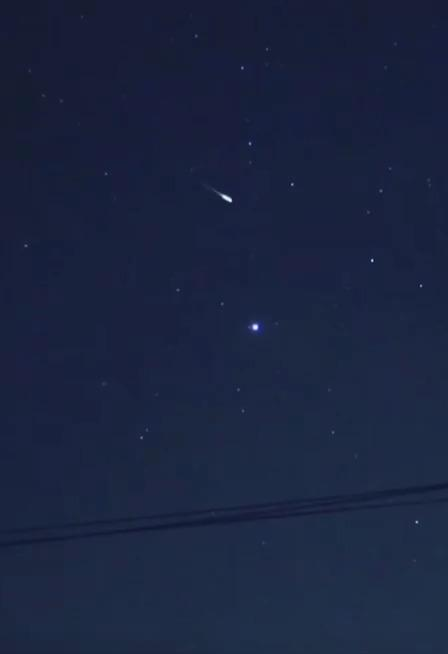meteorite: (182, 175, 249, 211)
